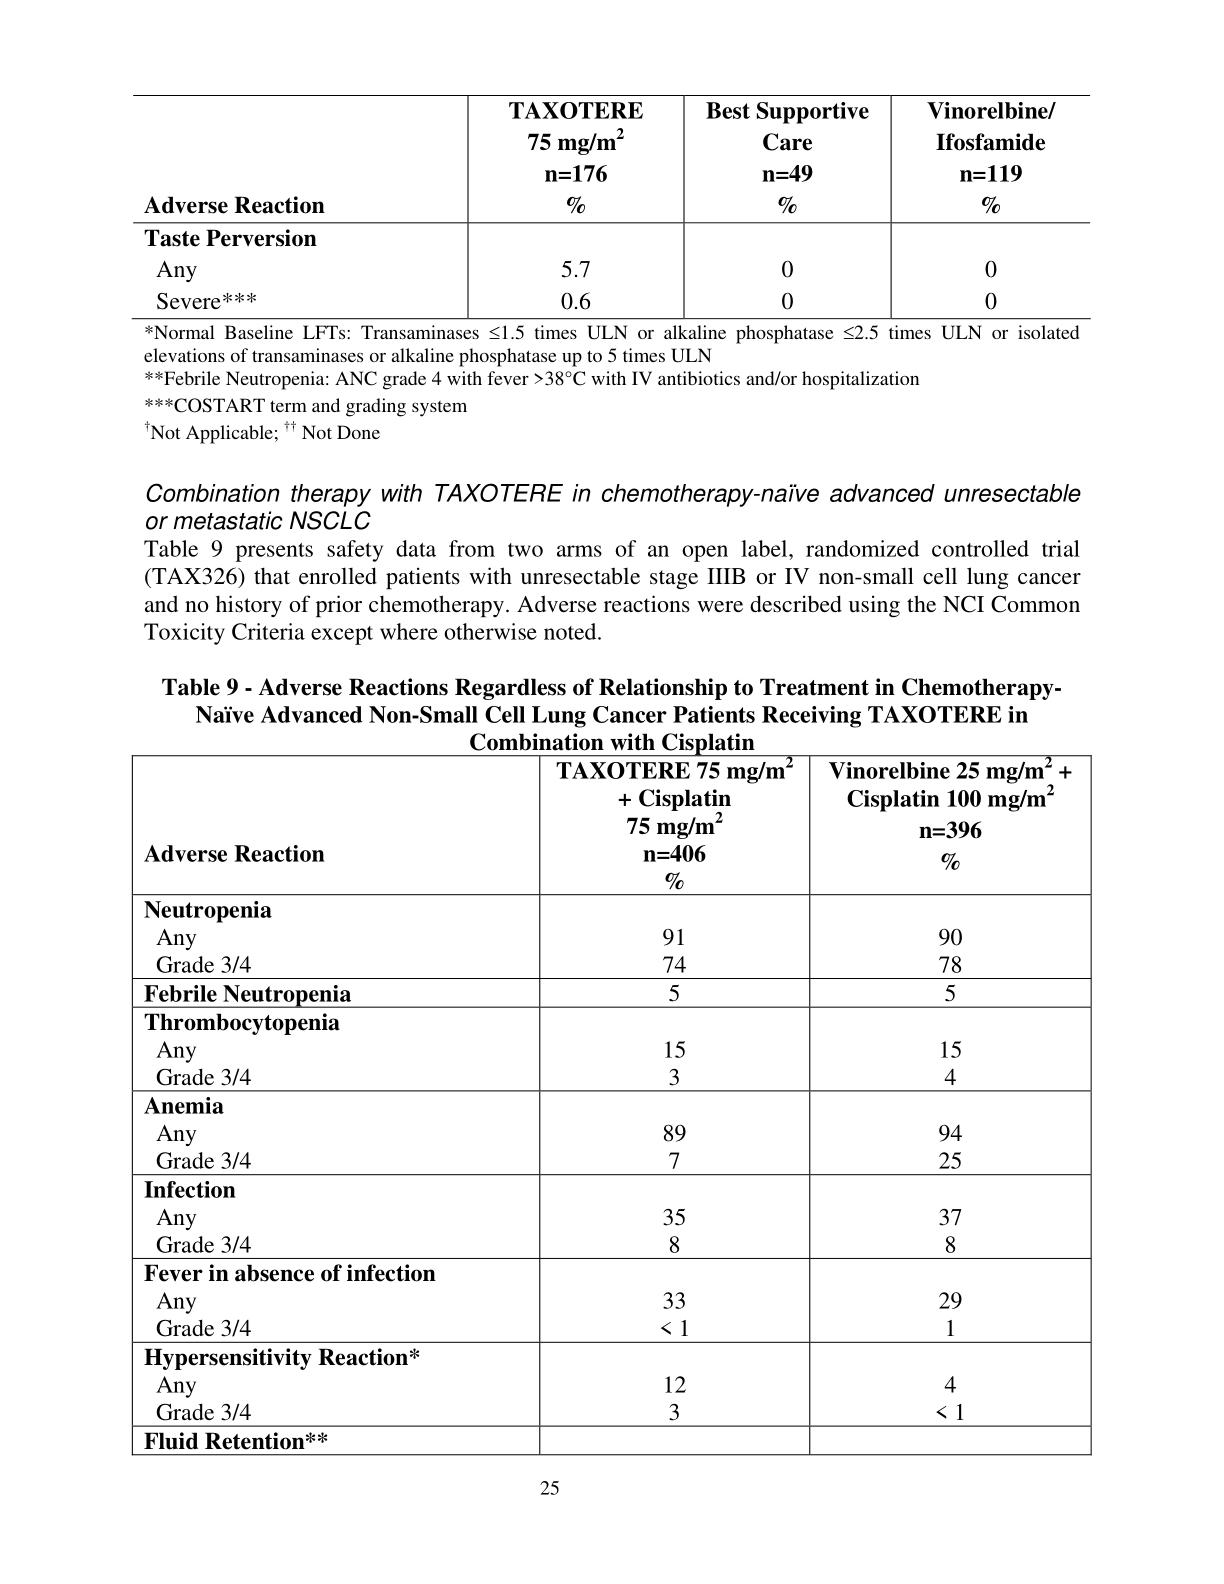partial_lined: (131, 753, 1092, 1455), (131, 94, 1092, 321)
